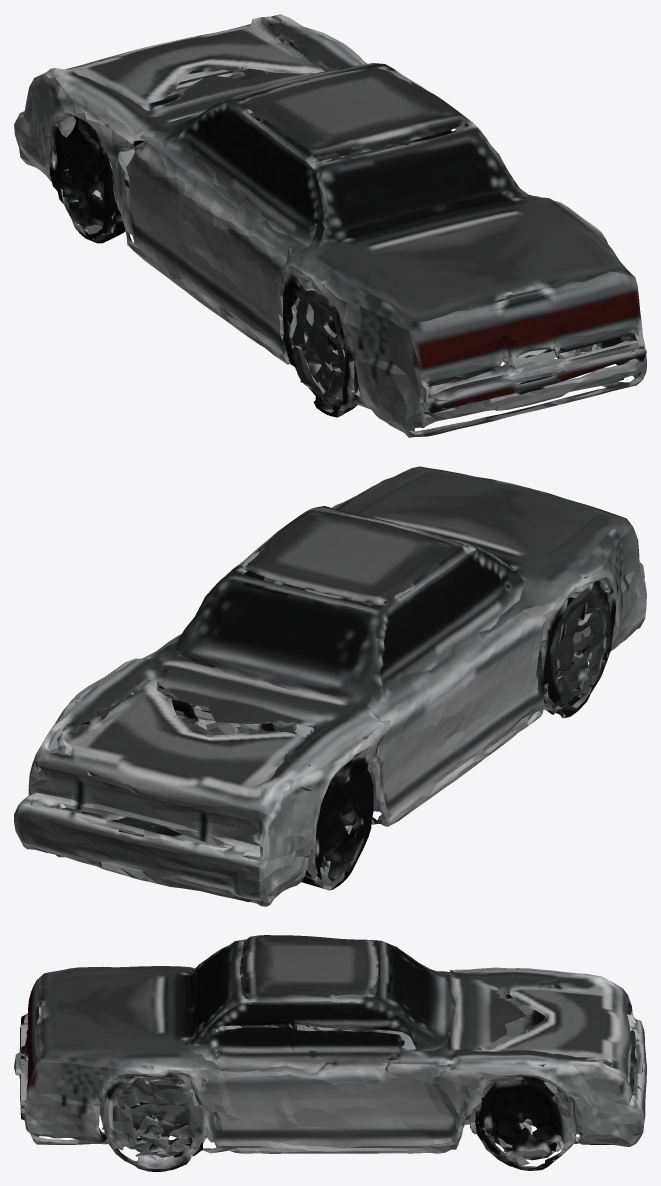
The picture shows the model from 3 angles, top to bottom: view 1: azimuth 30°, elevation 25°; view 2: azimuth 150°, elevation 25°; view 3: azimuth 270°, elevation 25°; orthographic projection. The views are drawn at different scales.
Parts seen in each view (by area): view 1: world; view 2: world; view 3: world.
Part boxes in pixels (x1=…): world: x1=14, y1=14, x2=646, y2=437; world: x1=14, y1=466, x2=646, y2=906; world: x1=14, y1=935, x2=646, y2=1171.
Size of the model in its own units: 0.3868 by 0.283 by 0.9972.
1 material, 1 textured.
